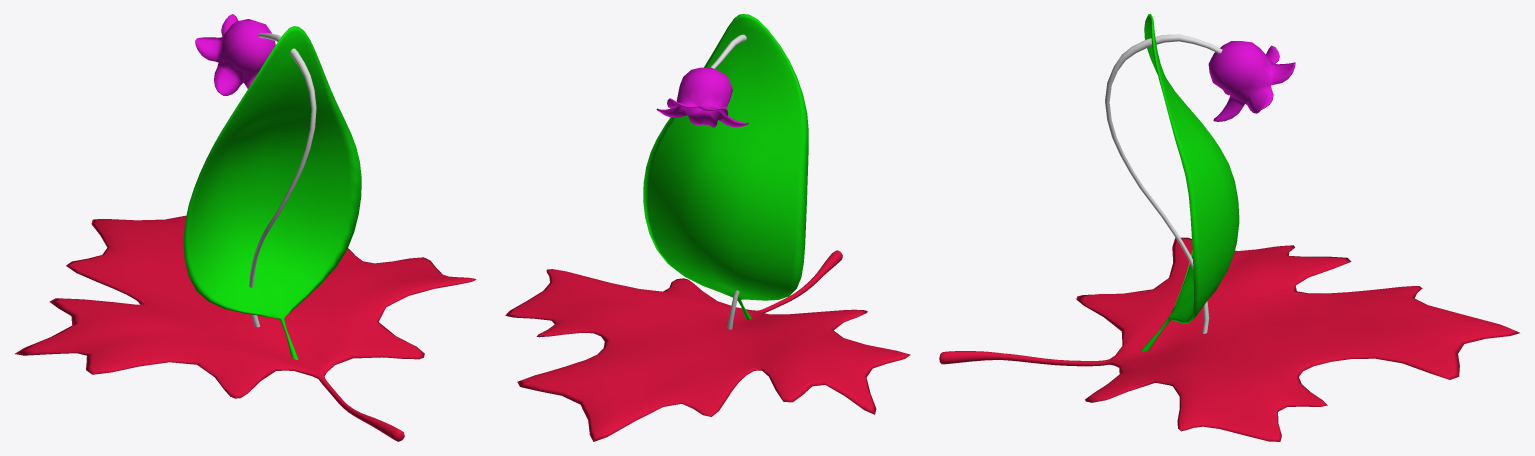
The model's file is leafboat.fbx.
3 renders of one model, left to right at view 1: azimuth 30°, elevation 25°; view 2: azimuth 150°, elevation 25°; view 3: azimuth 270°, elevation 25°, orthographic. The views are drawn at different scales.
Parts seen in each view (by area): view 1: Leaf Boat Low; view 2: Leaf Boat Low; view 3: Leaf Boat Low.
Part boxes in pixels (bbox=[...]): Leaf Boat Low: bbox=[15, 14, 476, 441]; Leaf Boat Low: bbox=[505, 14, 910, 441]; Leaf Boat Low: bbox=[939, 14, 1519, 441].
Size of the model in its own units: 865 by 696 by 1052.
